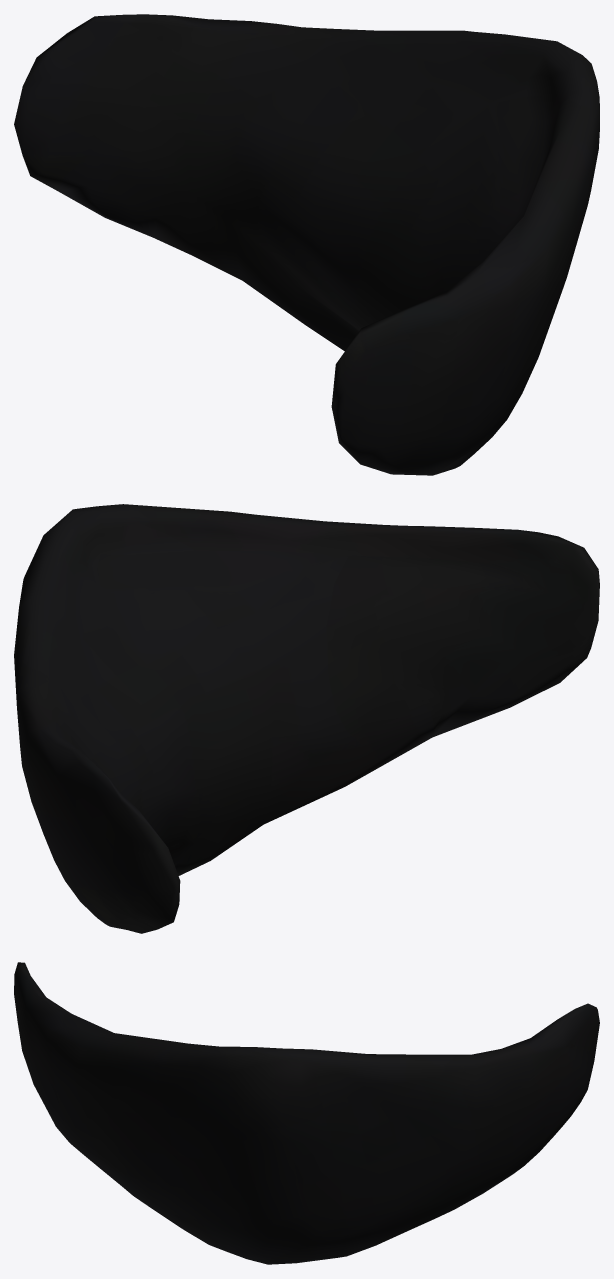
Rendered from Mask.glb.
3 views of the same model, one above another, from view 1: azimuth 30°, elevation 25°; view 2: azimuth 150°, elevation 25°; view 3: azimuth 270°, elevation 25° (orthographic). The views are drawn at different scales.
Parts seen in each view (by area): view 1: Mask; view 2: Mask; view 3: Mask.
Boxes of the visible parts, bbox=[...] form: Mask: bbox=[14, 14, 599, 475]; Mask: bbox=[14, 504, 599, 933]; Mask: bbox=[14, 962, 599, 1264].
Bounding box in the file's own units: 0.0244 × 0.0195 × 0.0401.
1 material, 1 textured.
